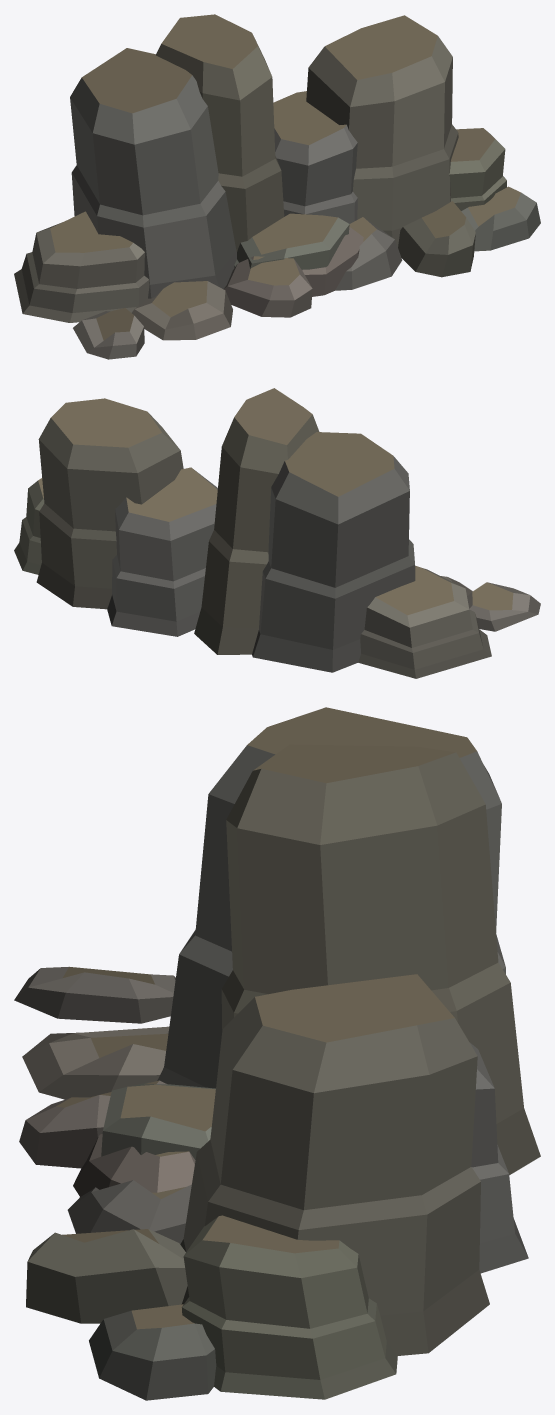
File: split-shoulder-high.glb
The picture shows the model from 3 angles, top to bottom: view 1: azimuth 30°, elevation 25°; view 2: azimuth 150°, elevation 25°; view 3: azimuth 270°, elevation 25°; orthographic projection. The views are drawn at different scales.
Parts seen in each view (by area): view 1: split-shoulder-high; view 2: split-shoulder-high; view 3: split-shoulder-high.
Part boxes in pixels (x1,y1,x2,y2): split-shoulder-high: (14,14,540,359); split-shoulder-high: (14,388,540,678); split-shoulder-high: (14,707,540,1400).
Bounding box in the file's own units: 23.59 × 10.16 × 11.99.
